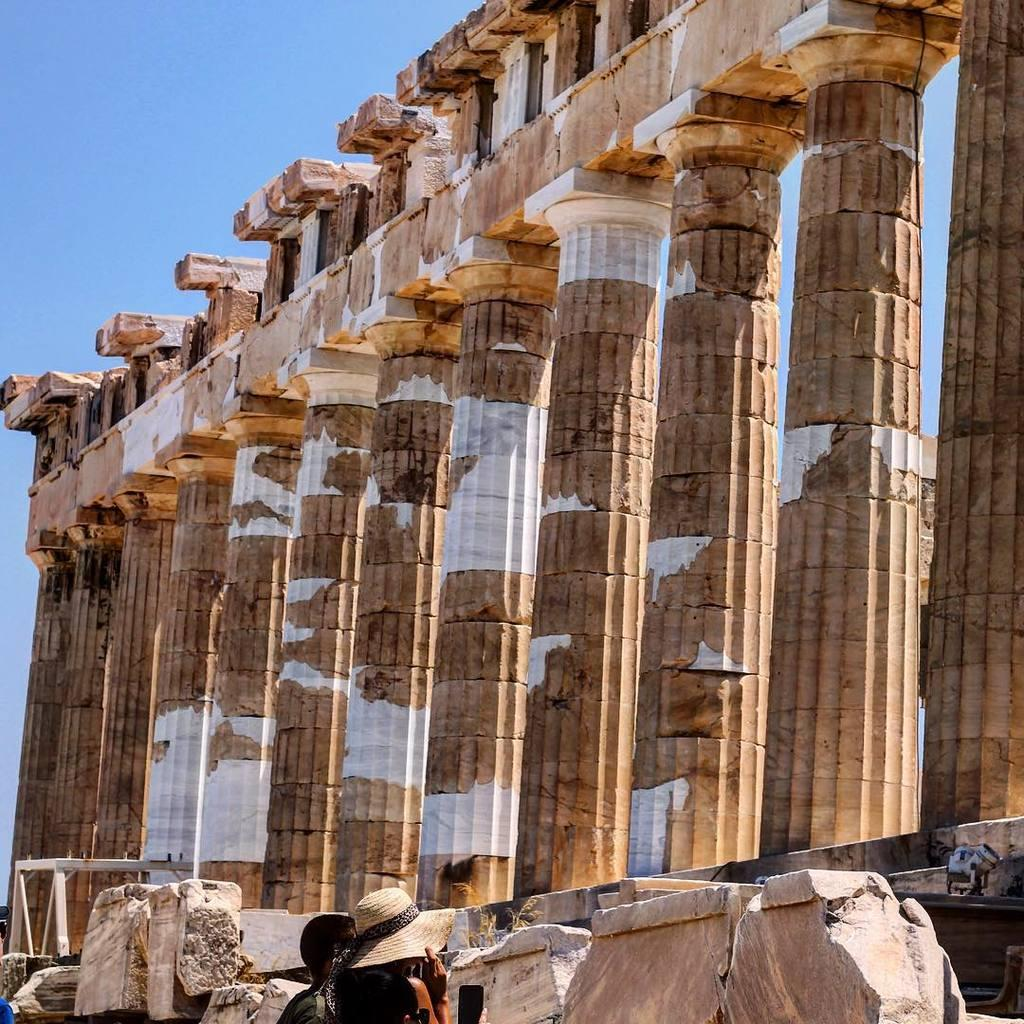Hat: (346, 888, 460, 960)
